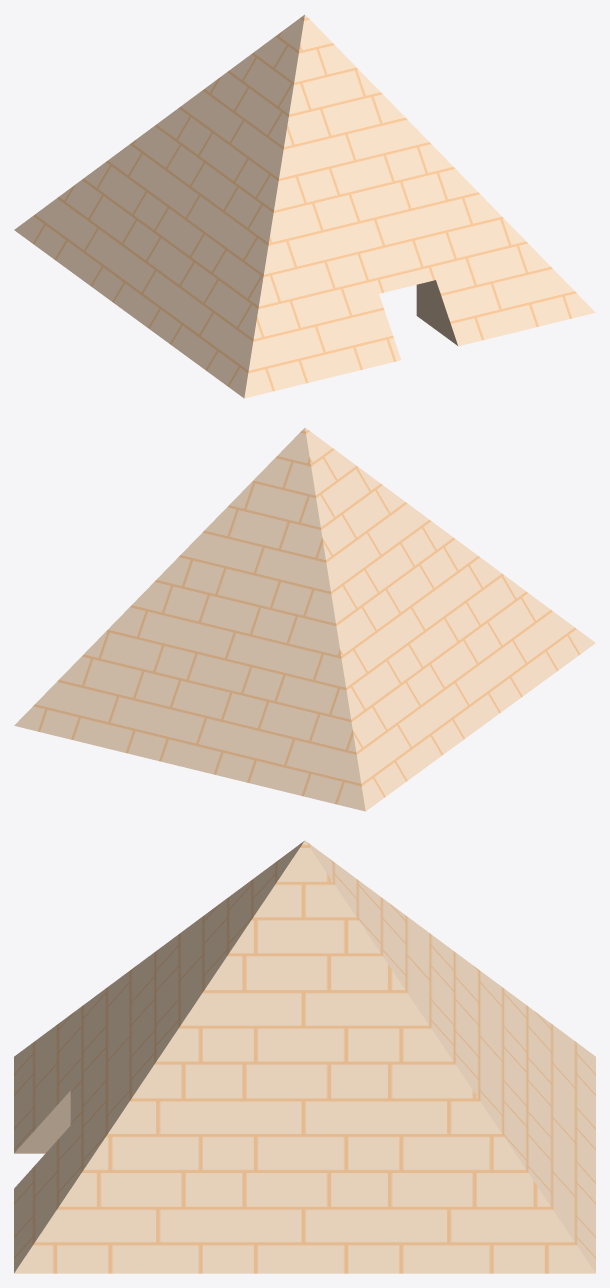
3 views of the same model, one above another, from view 1: azimuth 30°, elevation 25°; view 2: azimuth 150°, elevation 25°; view 3: azimuth 270°, elevation 25° (orthographic). The views are drawn at different scales.
Visible parts, largest first — view 1: Pyramid001; view 2: Pyramid001; view 3: Pyramid001.
Part boxes in pixels (x1=…): Pyramid001: x1=14, y1=14, x2=595, y2=398; Pyramid001: x1=14, y1=427, x2=595, y2=811; Pyramid001: x1=14, y1=840, x2=595, y2=1273.
Bounding box in the file's own units: 140 × 98.08 × 159.
Materials: 1 (1 with a texture image).
